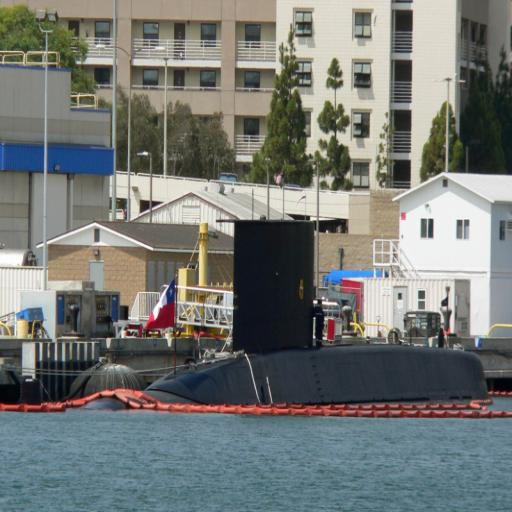submarine: (83, 220, 492, 408)
